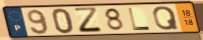0: (51, 7, 75, 35)
8: (104, 7, 126, 32)
9: (27, 8, 50, 35)
L: (127, 7, 153, 32)
Q: (152, 6, 181, 32)
Z: (72, 6, 105, 34)
